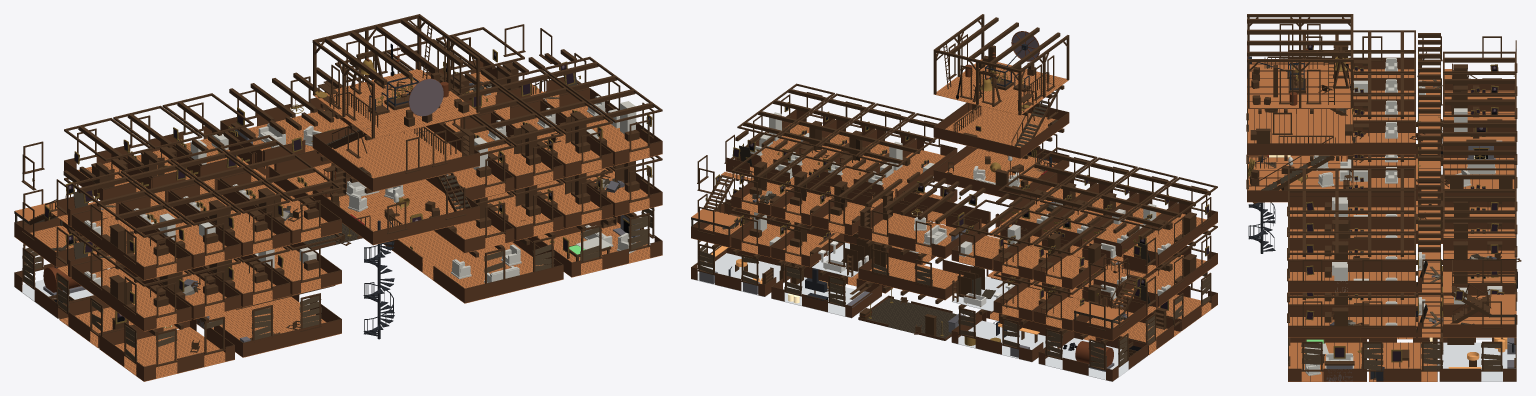
File: SM_Abandoned_Interior.fbx
3 views of the same model, side by side, from view 1: azimuth 30°, elevation 25°; view 2: azimuth 150°, elevation 25°; view 3: azimuth 270°, elevation 25° (orthographic). The views are drawn at different scales.
Parts seen in each view (by area): view 1: SM_Abandoned_Interior; view 2: SM_Abandoned_Interior; view 3: SM_Abandoned_Interior.
Boxes of the visible parts, x1,y1,x2,y2 form: SM_Abandoned_Interior: [14, 14, 662, 381]; SM_Abandoned_Interior: [691, 14, 1217, 381]; SM_Abandoned_Interior: [1246, 14, 1521, 381].
Size of the model in its own units: 38.92 by 18.99 by 20.23.
